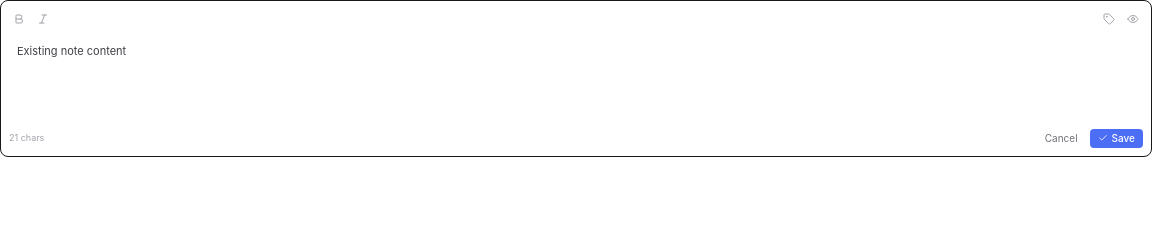
NoteEditor › rendering › renders with existing note tags (when tag input is open)
The image size is (1152, 230).
Click the button titled "Add tags".
click(1109, 19)  # box [1099,9,1119,29]
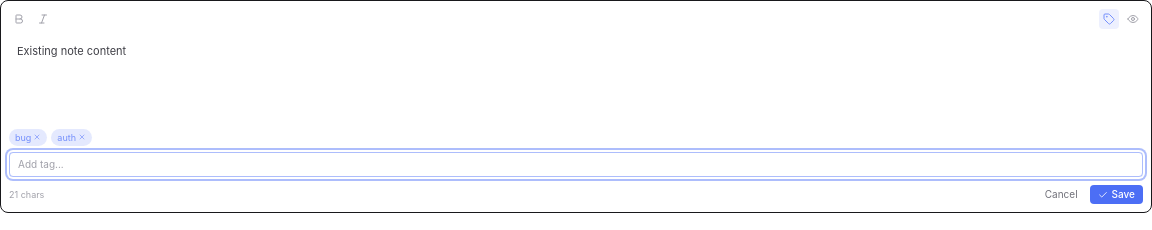
expect the text "bug" is shown: met, box [9,128,47,146]
expect the text "auth" is shown: met, box [51,128,92,146]
